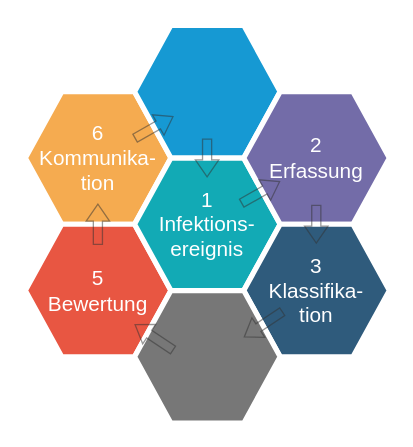
The diagram is 413 pixels wide and 447 high, and some of its shapes have lost their labels. The box of each missing label's shape, as (x1, y1, x2, y2) in pixels:
4 Daten: (131, 287, 282, 425)
7 Maßnahme: (131, 22, 282, 160)
